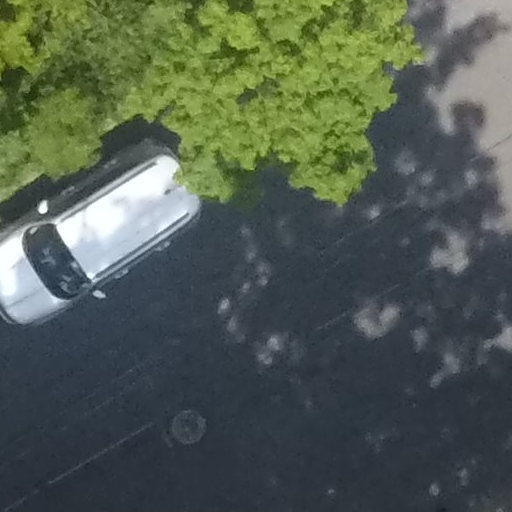car: (1, 108, 241, 350)
